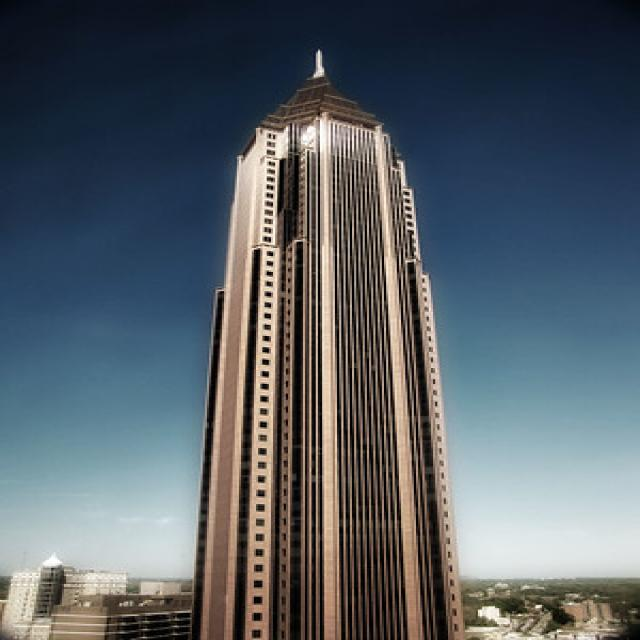Normal_building: (188, 70, 471, 640)
